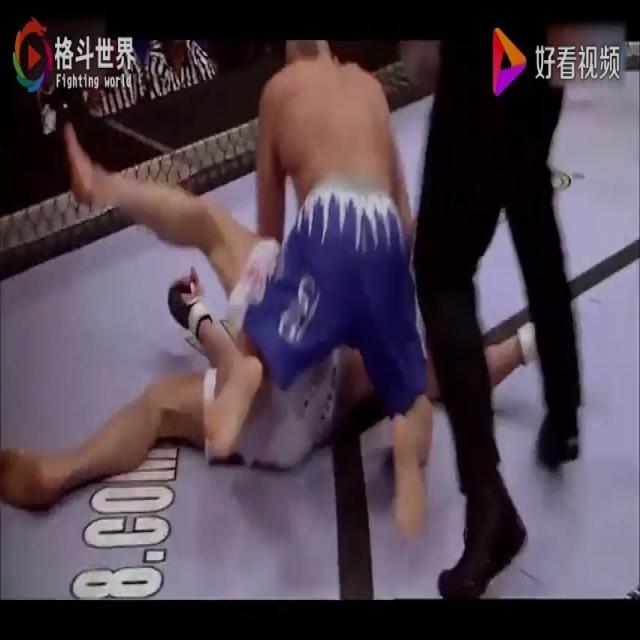fight: (0, 32, 567, 592)
non-fight: (374, 0, 620, 480)
